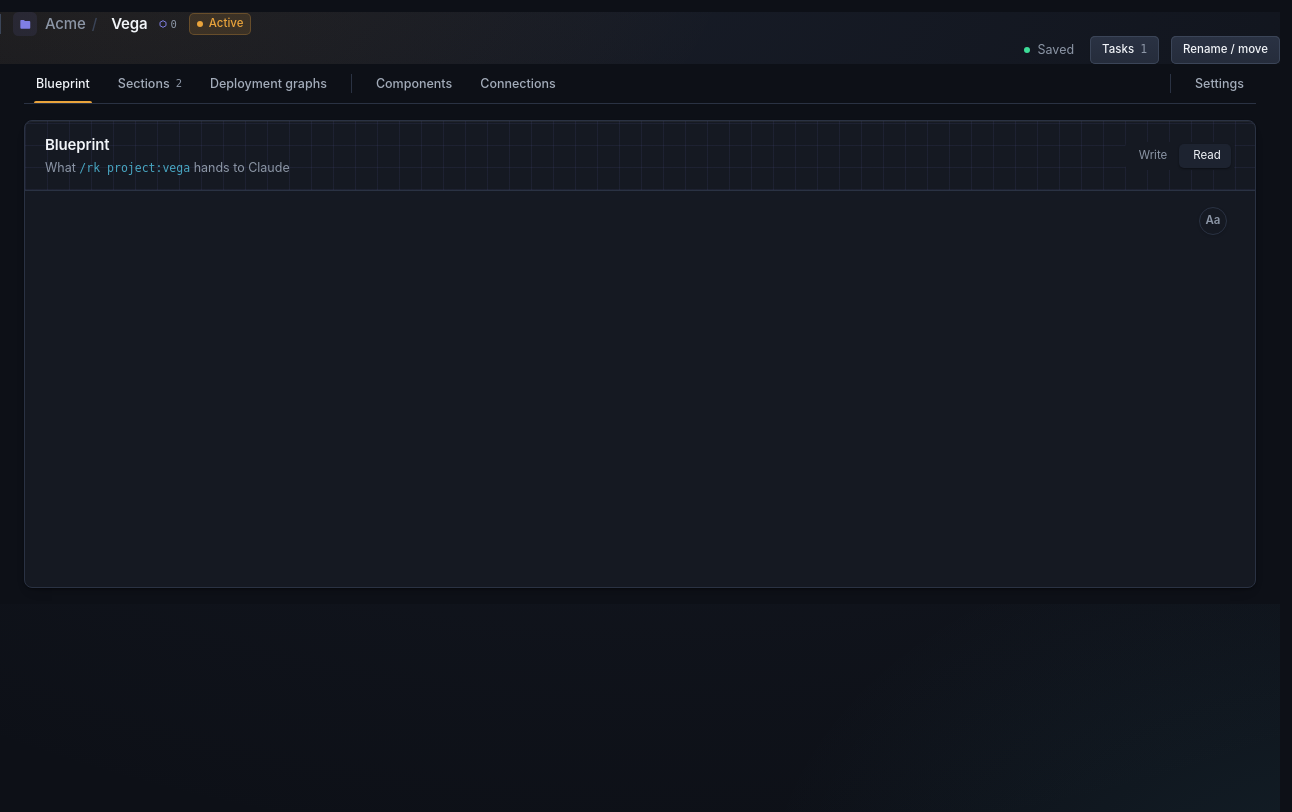
Scenario: the project page › opens the first section from its tab and another from the rail
Click the button with test id "tab-sections". click: [150, 84]
box: left=106, top=64, right=194, bottom=103
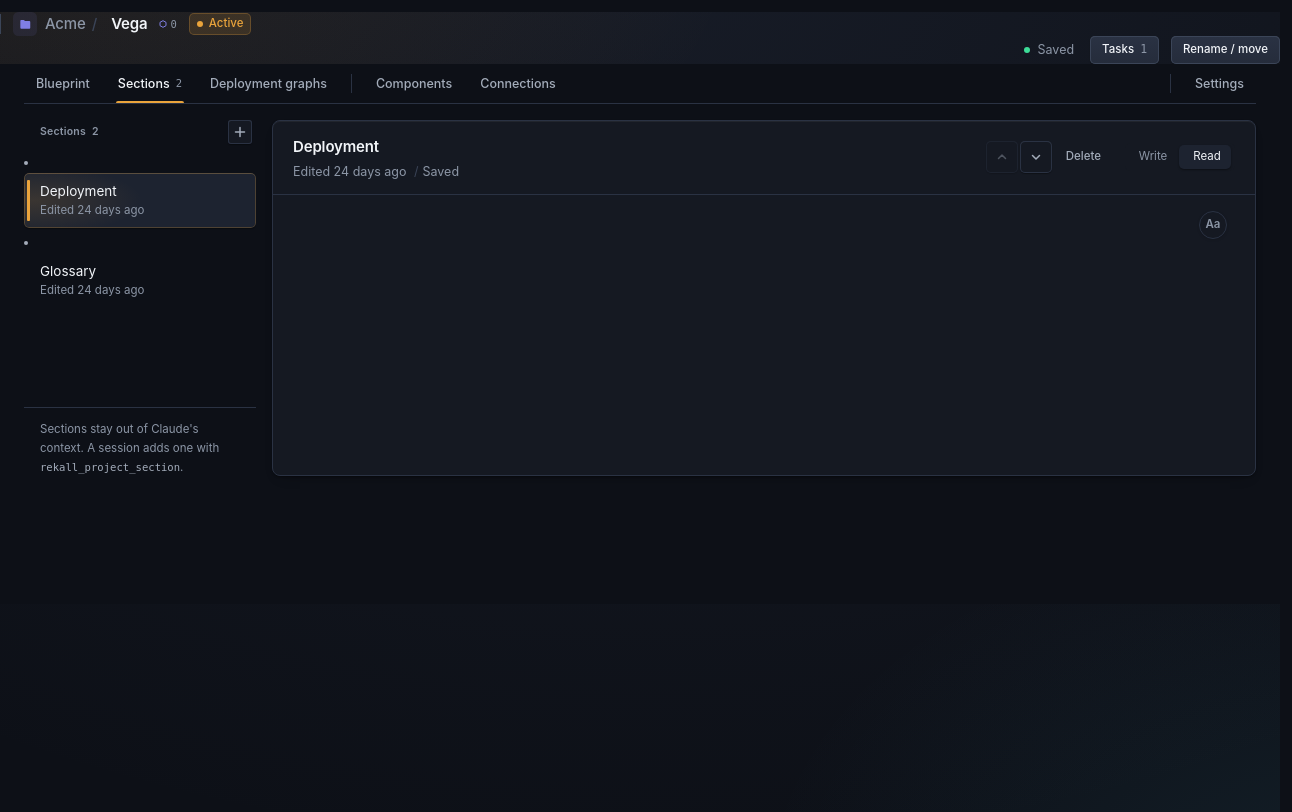
Check: the field with test id "section-title" holds "Deployment", box left=289, top=133, right=970, bottom=160
Click the button with test id "rail-section-s-2". click: [140, 280]
box: left=24, top=253, right=256, bottom=307
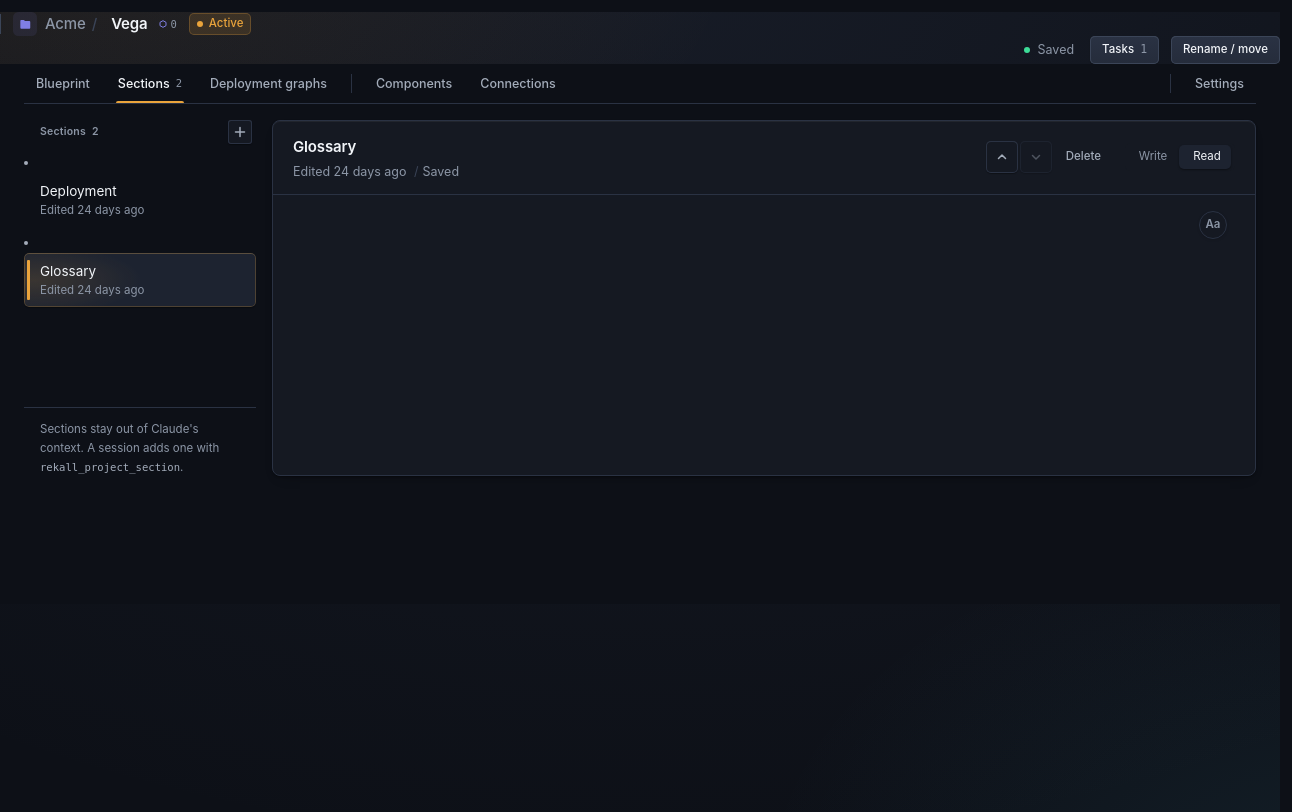
Check: the field with test id "section-title" holds "Glossary", box left=289, top=133, right=970, bottom=160
